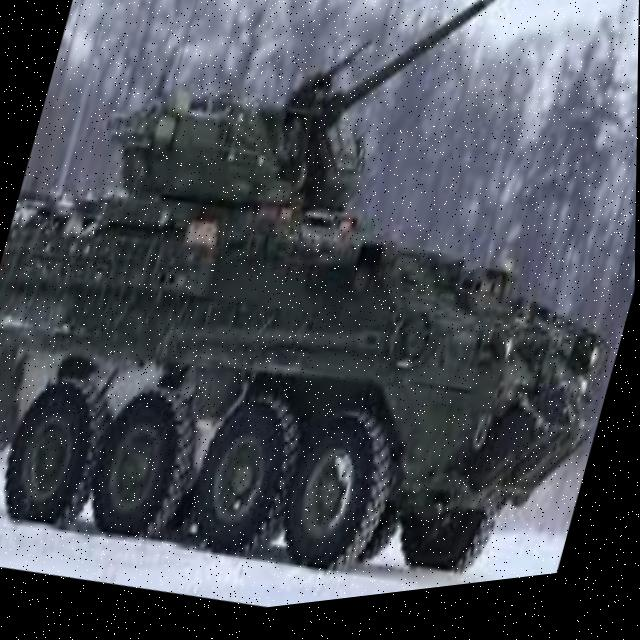MIL_APC: (0, 30, 639, 640)
